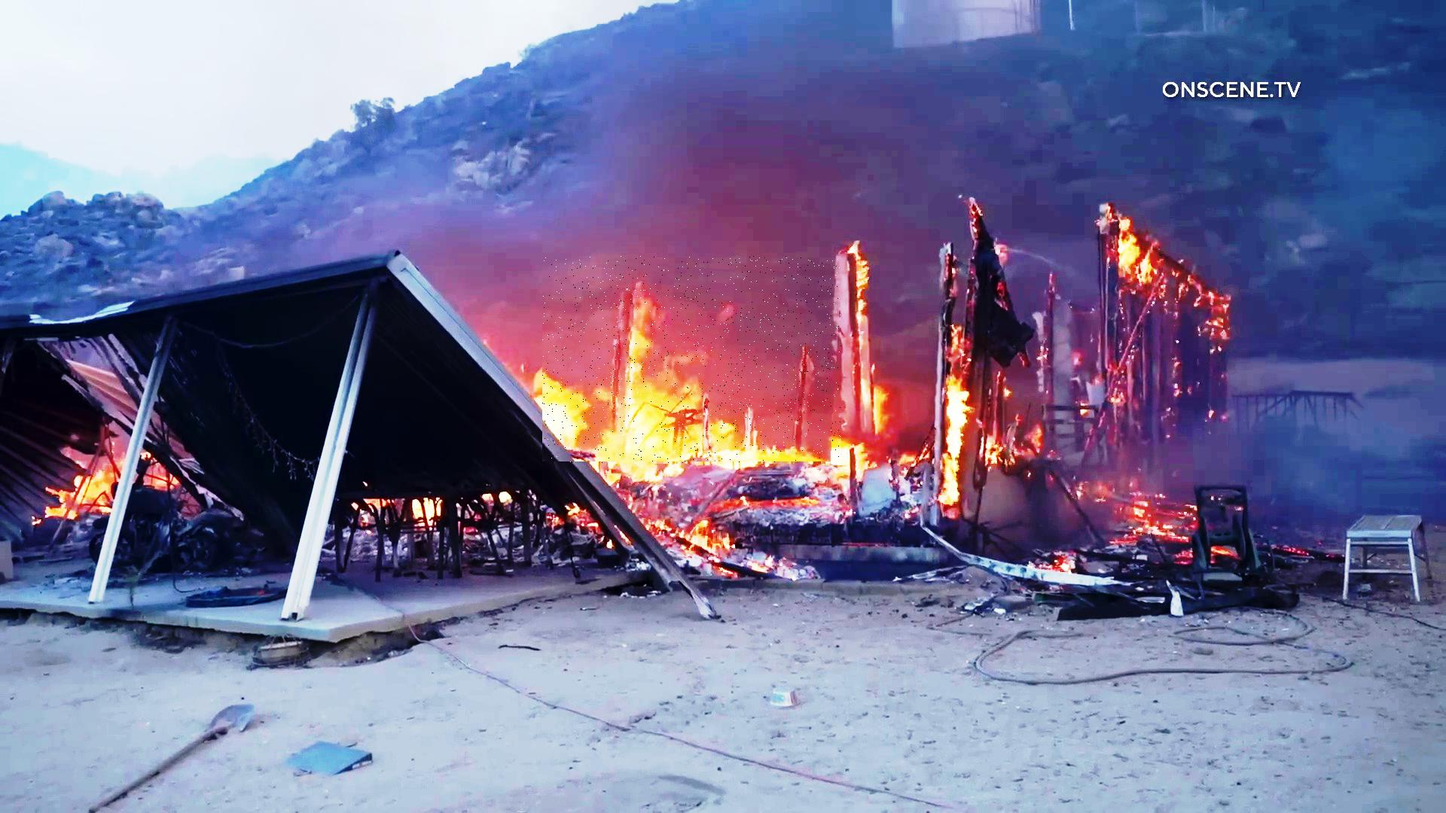fire: (542, 257, 841, 464)
